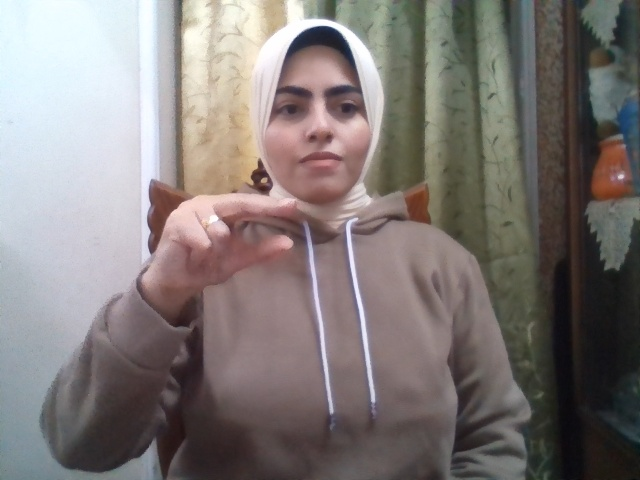no: (153, 192, 296, 290)
